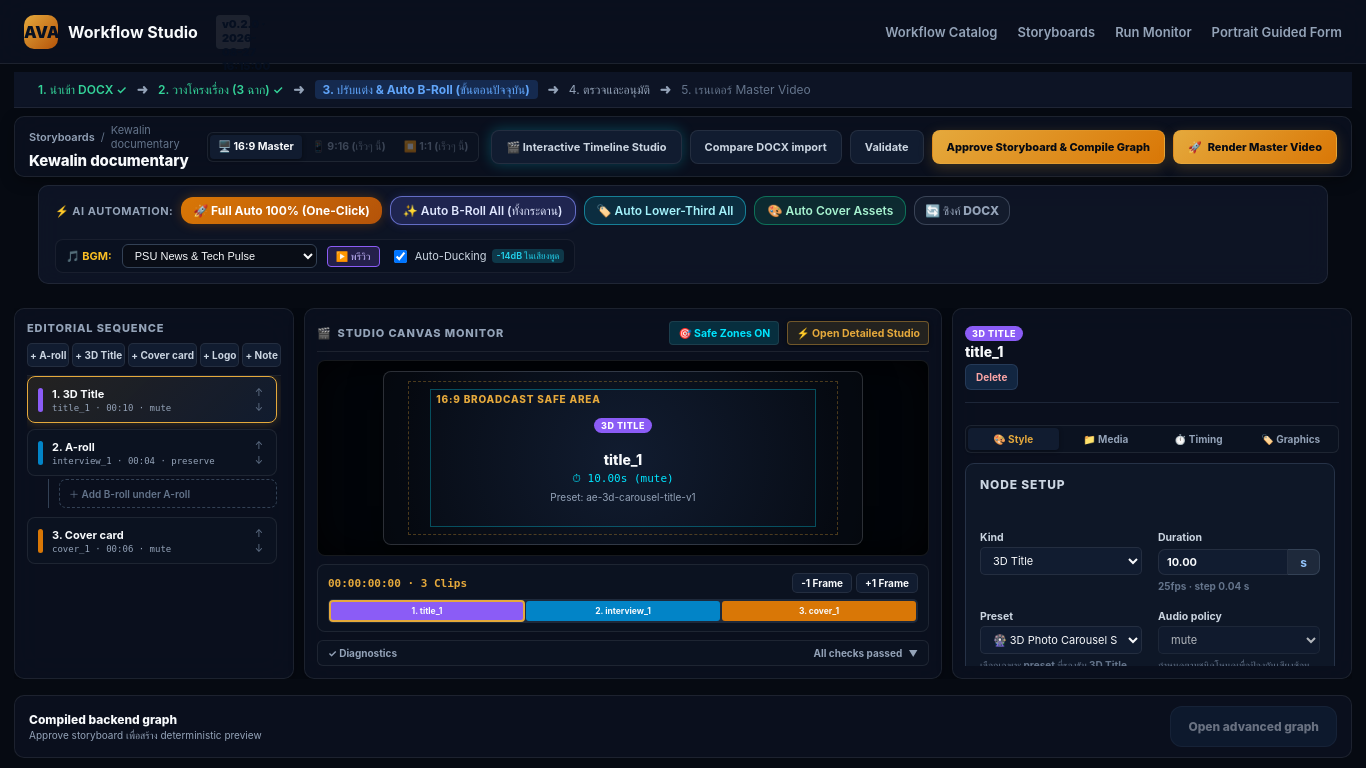
Scenario: uses a typed preset selector and Finder media picker for A-roll
This screenshot has width=1366, height=768.
Click the text "2. A-roll" at (73, 446), box [52,440,95,454]
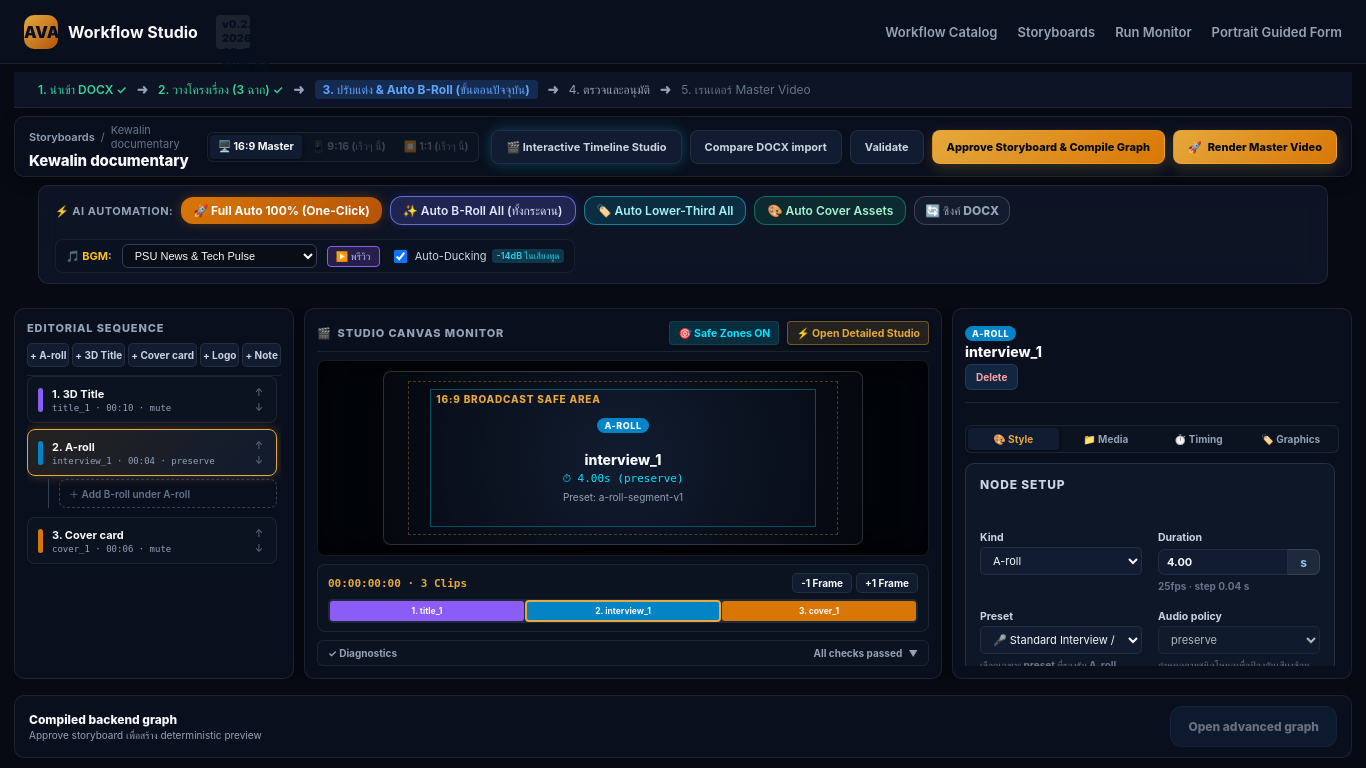
Now the dropdown labelled "Preset" shows "🎤 Standard Interview / Talking Head · v1", box [980,626,1142,654]
Replace the text in the number field named "Duration (s)" with "6.2" at (1223, 562), box [1158,549,1288,575]
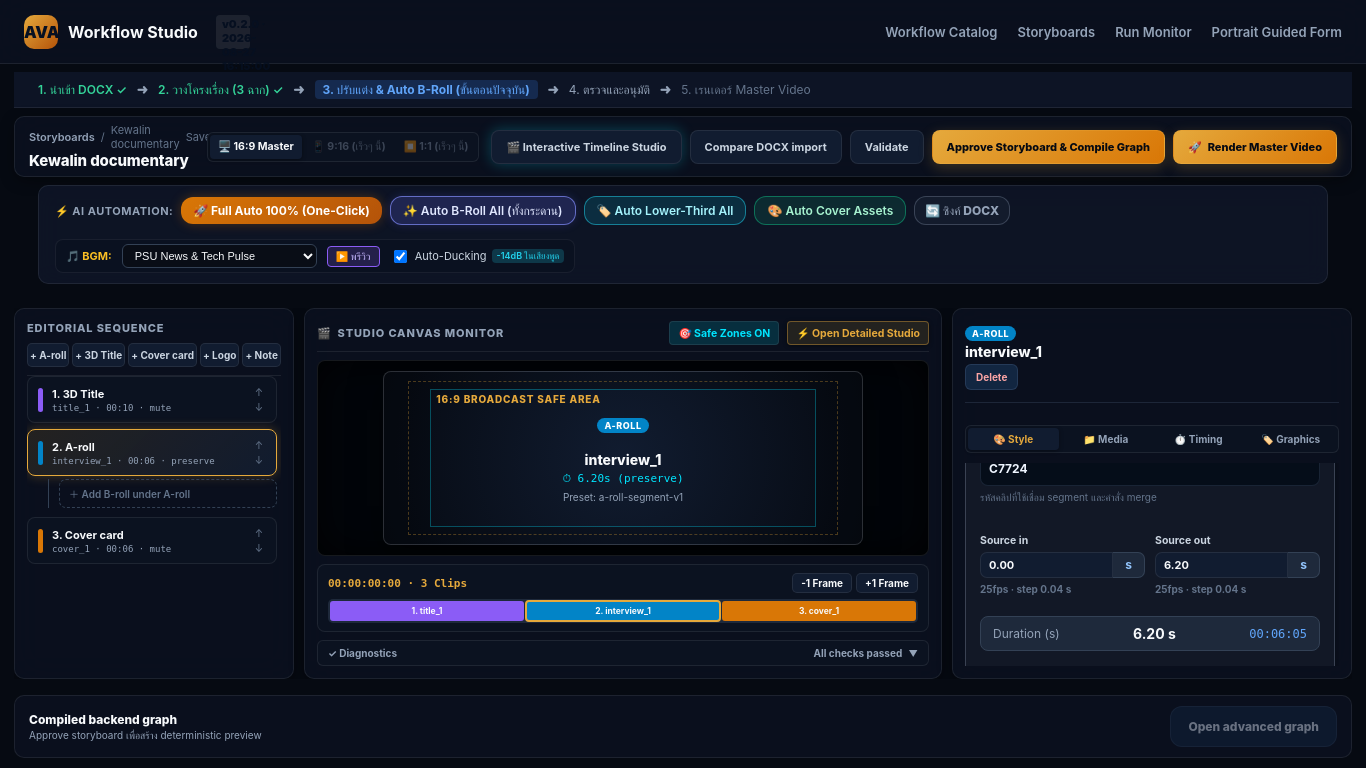
Now the number field named "Source out (s)" holds "6.2", box [1155,552,1288,578]
